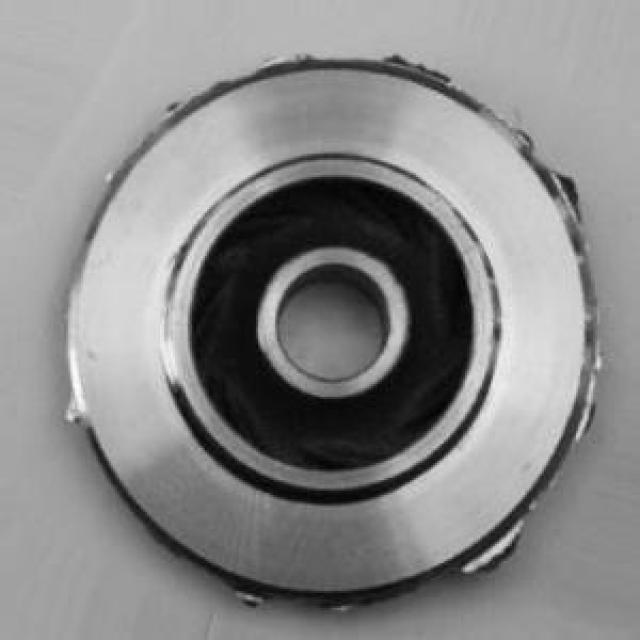Defect: (542, 145, 585, 208), (59, 382, 95, 434)
